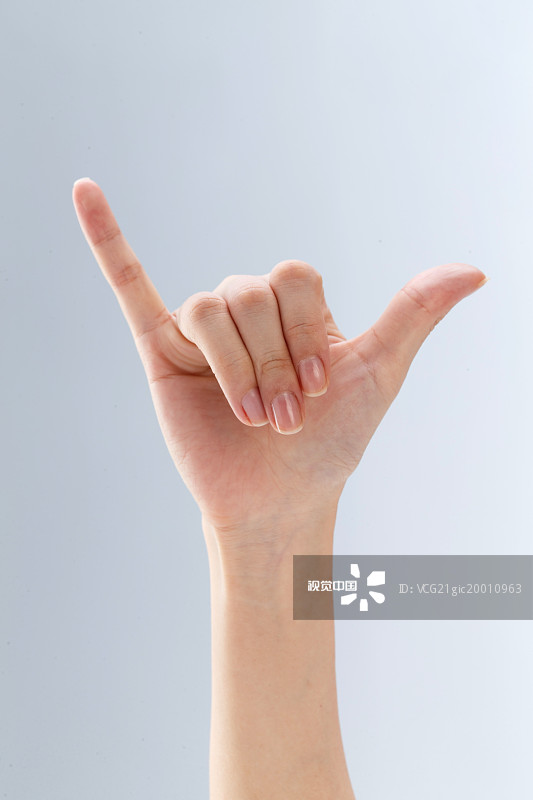no-phone: (39, 131, 494, 527)
